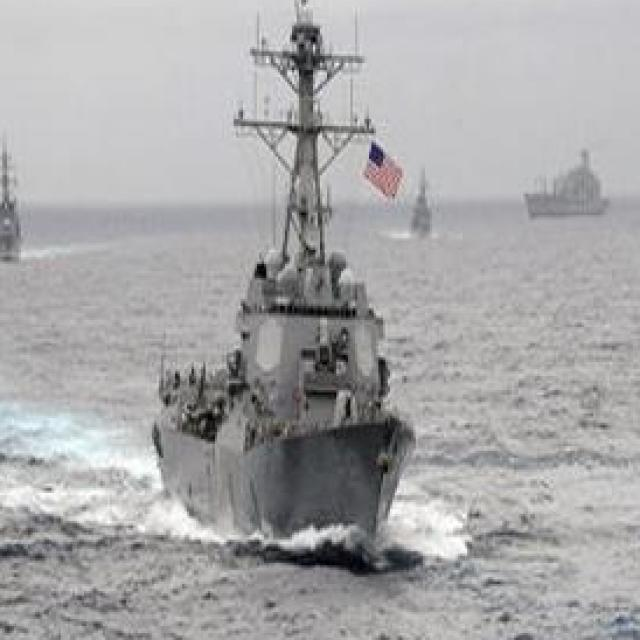navalvessels: (147, 0, 411, 544), (520, 144, 610, 219), (0, 138, 35, 257), (399, 164, 436, 238)
